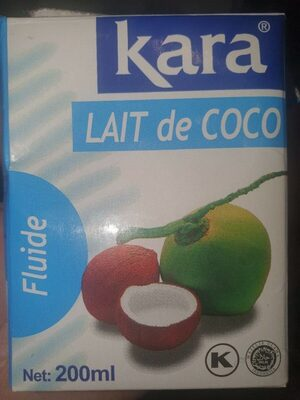Lait de coco: (15, 20, 285, 380)
